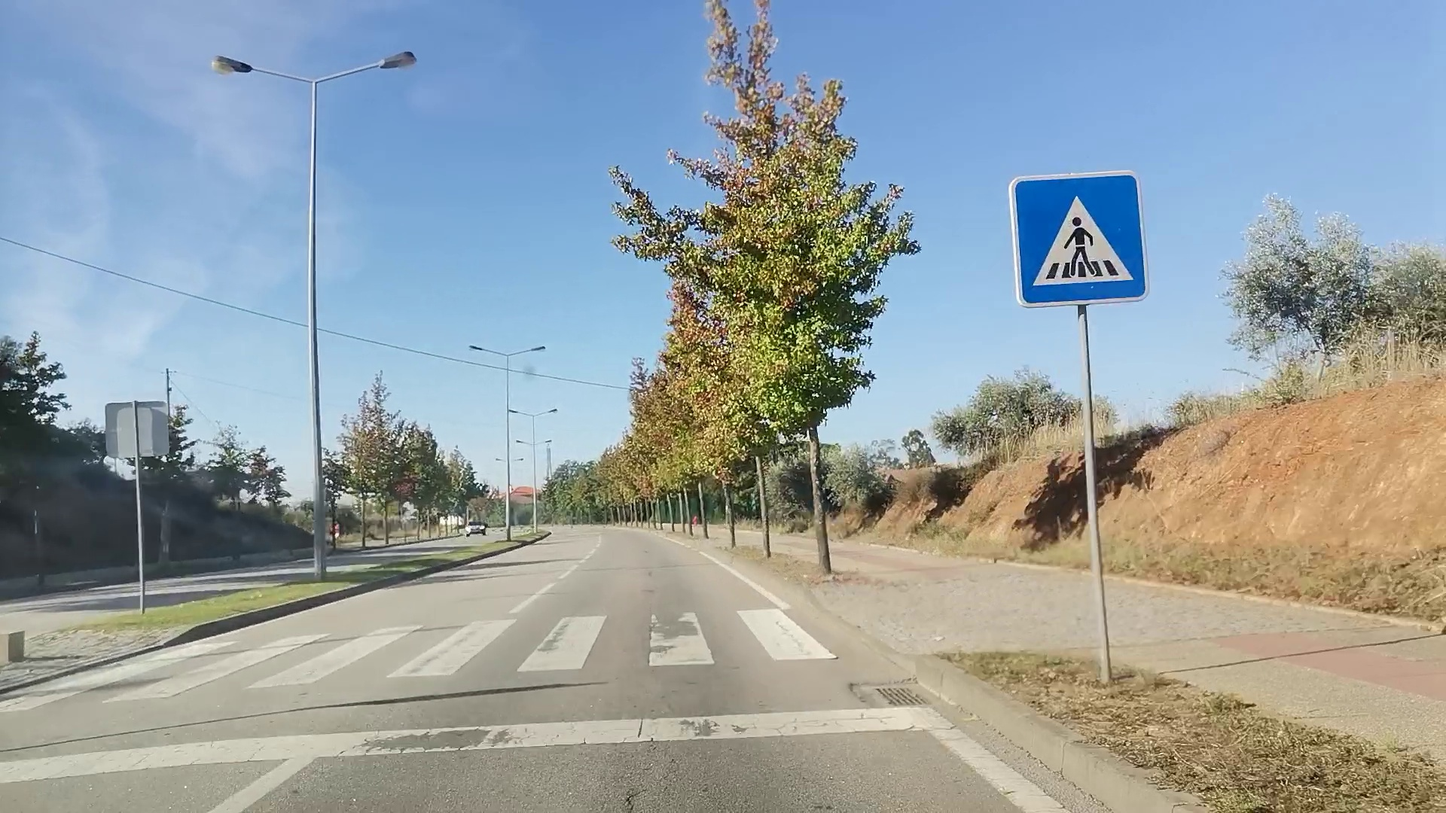Stairs: (151, 609, 908, 746)
